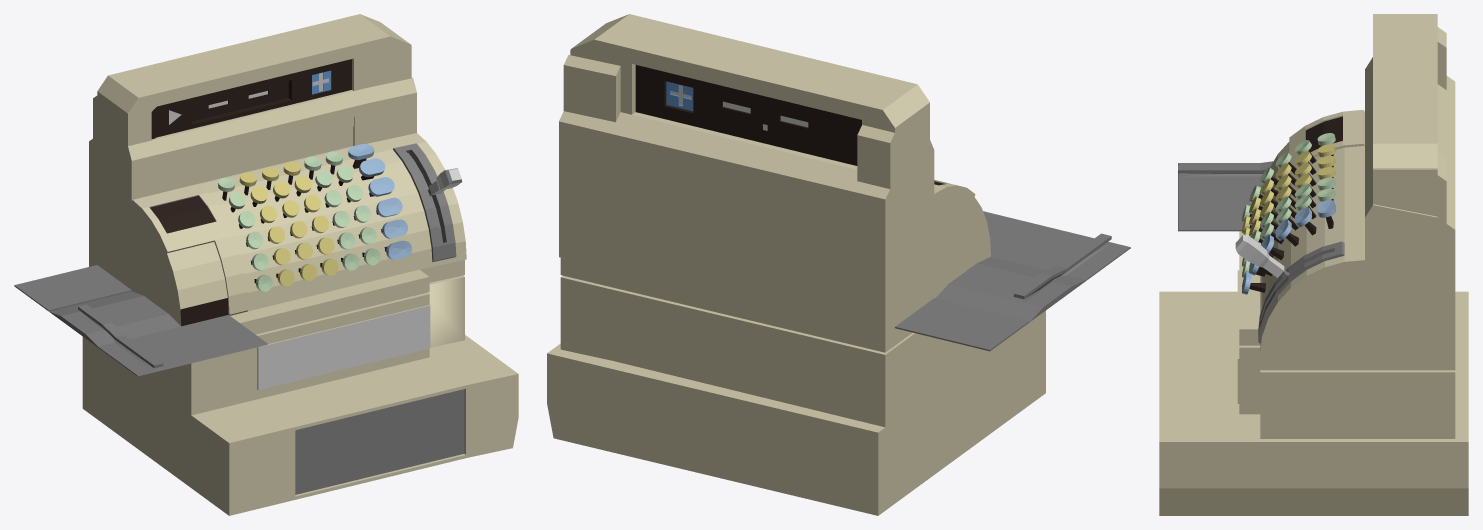
File: cash.fbx
3 views of the same model, side by side, from view 1: azimuth 30°, elevation 25°; view 2: azimuth 150°, elevation 25°; view 3: azimuth 270°, elevation 25° (orthographic). The views are drawn at different scales.
Visible parts, largest first — view 1: Cylinder.001_Cylinder.004; view 2: Cylinder.001_Cylinder.004; view 3: Cylinder.001_Cylinder.004.
Boxes of the visible parts, <box> form: Cylinder.001_Cylinder.004: <box>14,14,518,515</box>; Cylinder.001_Cylinder.004: <box>547,14,1130,515</box>; Cylinder.001_Cylinder.004: <box>1159,14,1468,515</box>.
Bounding box in the file's own units: 625 × 550 × 426.
